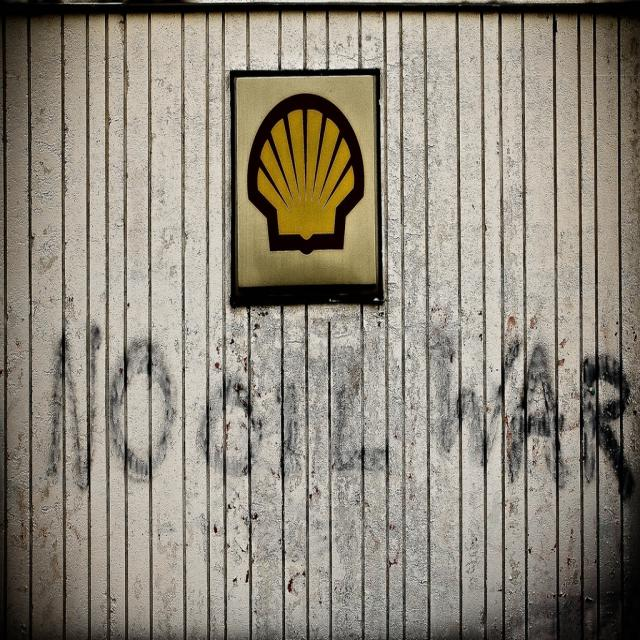shell: (247, 93, 368, 257)
